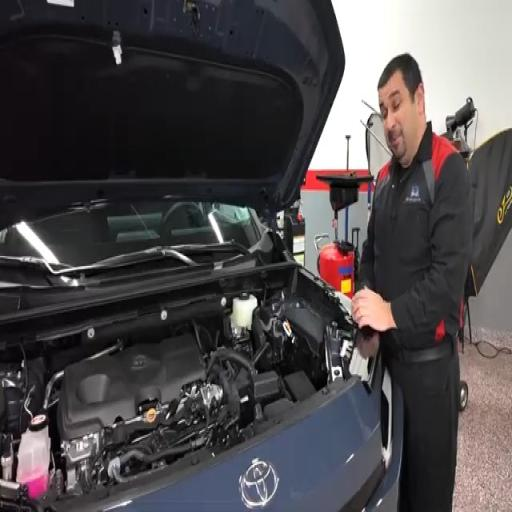bumper: (101, 382, 402, 511), (365, 386, 403, 511)
emblem: (240, 460, 279, 509)
hood: (0, 0, 344, 227)
windshield: (0, 201, 259, 267)
